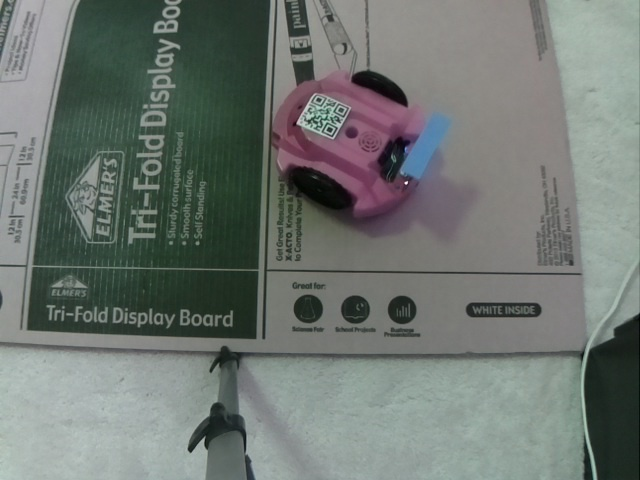board: (399, 108, 457, 181)
chassis: (266, 64, 460, 223)
